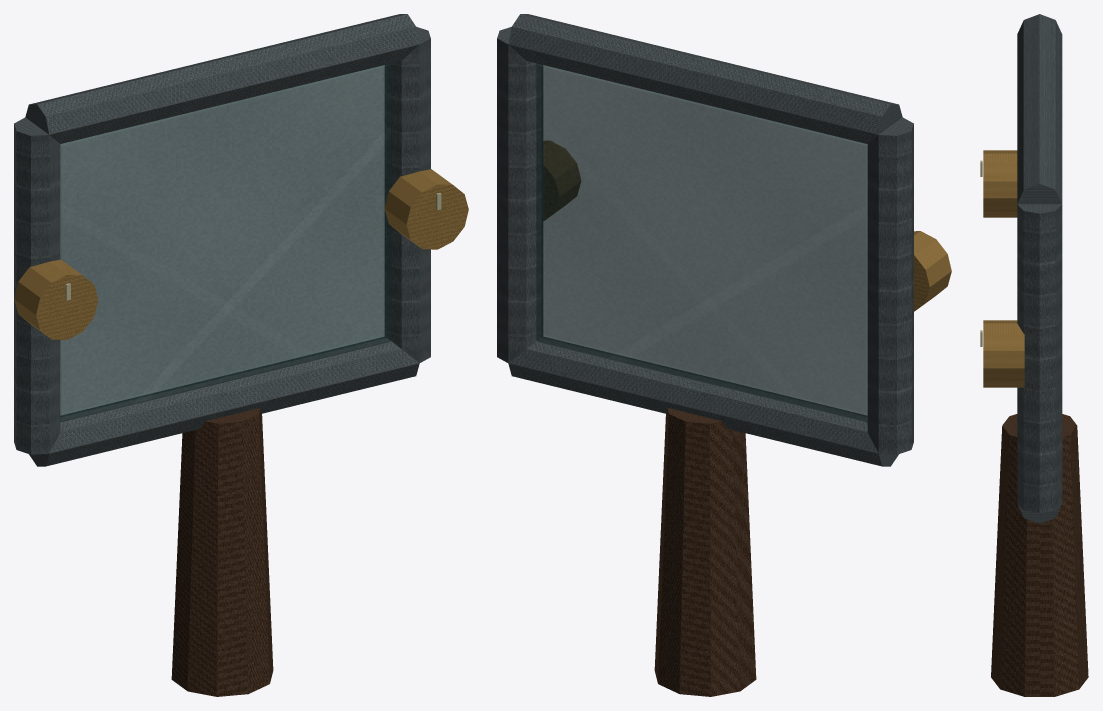
File: blender_spectral_prism_2.glb
The picture shows the model from 3 angles, left to right: view 1: azimuth 30°, elevation 25°; view 2: azimuth 150°, elevation 25°; view 3: azimuth 270°, elevation 25°; orthographic projection. The views are drawn at different scales.
Parts seen in each view (by area): view 1: blender_spectral_prism_2; view 2: blender_spectral_prism_2; view 3: blender_spectral_prism_2.
Boxes of the visible parts, x1,y1,x2,y2 form: blender_spectral_prism_2: (14,14,468,696); blender_spectral_prism_2: (497,14,951,696); blender_spectral_prism_2: (980,14,1088,696).
Size of the model in its own units: 0.125 by 0.17 by 0.0288.
5 materials, 5 textured.
